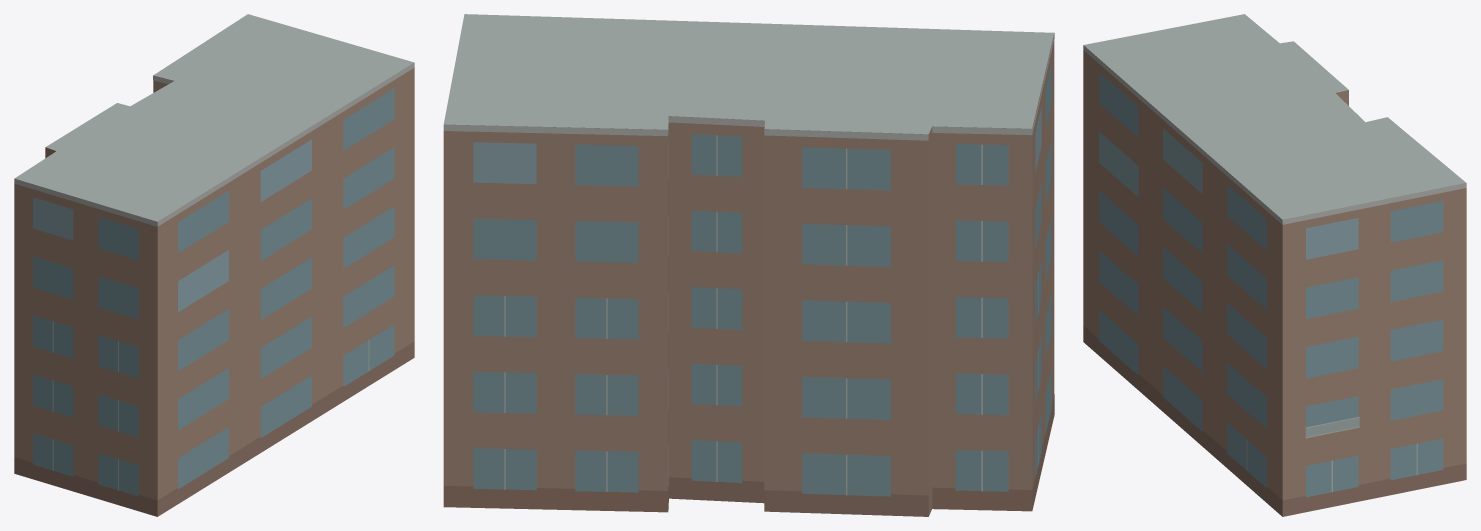
Rendered from survey-upis-32704896.glb.
3 views of the same model, side by side, from view 1: azimuth 30°, elevation 25°; view 2: azimuth 150°, elevation 25°; view 3: azimuth 270°, elevation 25° (orthographic). The views are drawn at different scales.
Parts seen in each view (by area): view 1: survey-upis-32704896.tmp; view 2: survey-upis-32704896.tmp; view 3: survey-upis-32704896.tmp.
Boxes of the visible parts, x1,y1,x2,y2 form: survey-upis-32704896.tmp: (14,14,414,516); survey-upis-32704896.tmp: (443,14,1054,516); survey-upis-32704896.tmp: (1083,14,1466,516).
Bounding box in the file's own units: 21.41 × 14.4 × 16.84.
